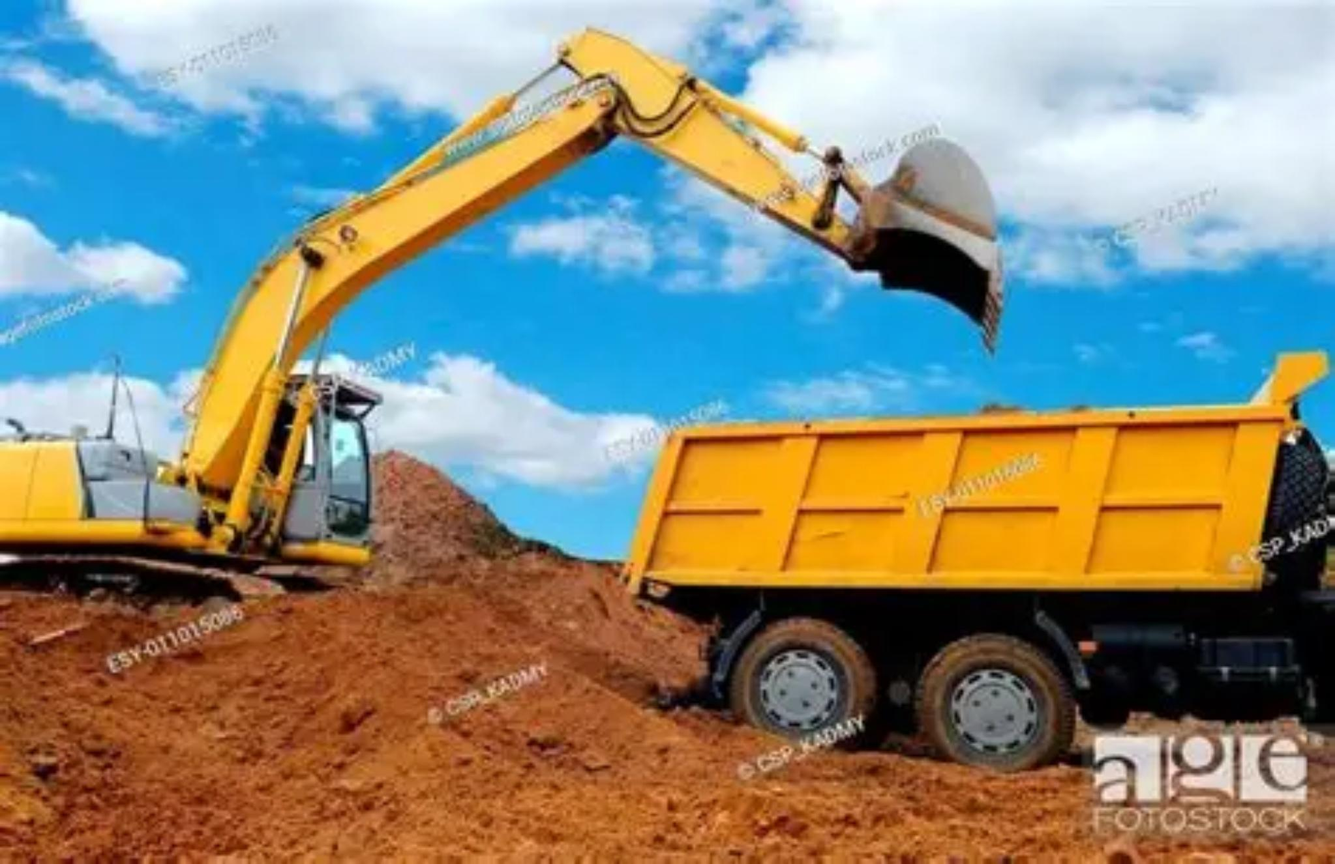excavator: (0, 28, 992, 563)
truck: (628, 352, 1333, 769)
